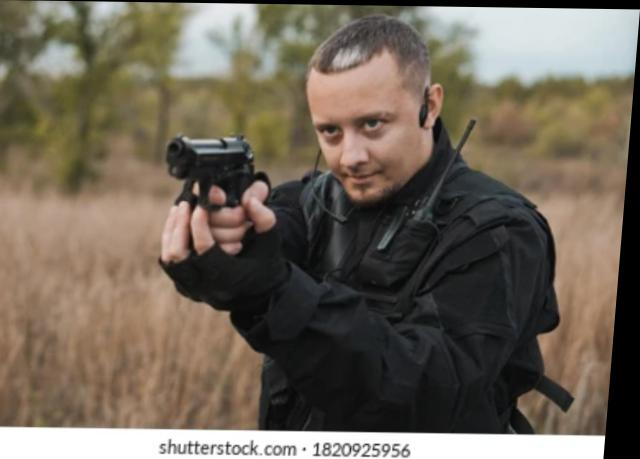other: (220, 33, 545, 433)
